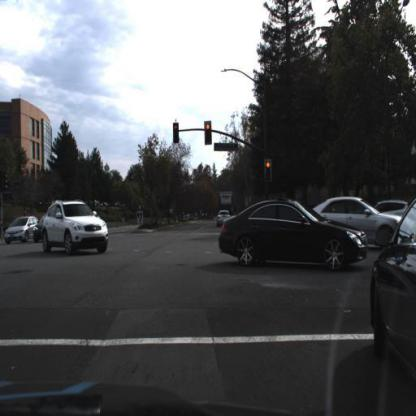car: (216, 198, 370, 267), (370, 193, 416, 398), (41, 198, 109, 253), (4, 214, 41, 247), (373, 199, 411, 217), (34, 214, 45, 245), (216, 209, 232, 226)
trafficLight-Red: (264, 158, 274, 187), (203, 120, 213, 147)
trafficLight-RedLeft: (173, 121, 181, 147)
truck: (218, 187, 236, 216), (219, 191, 233, 209)
